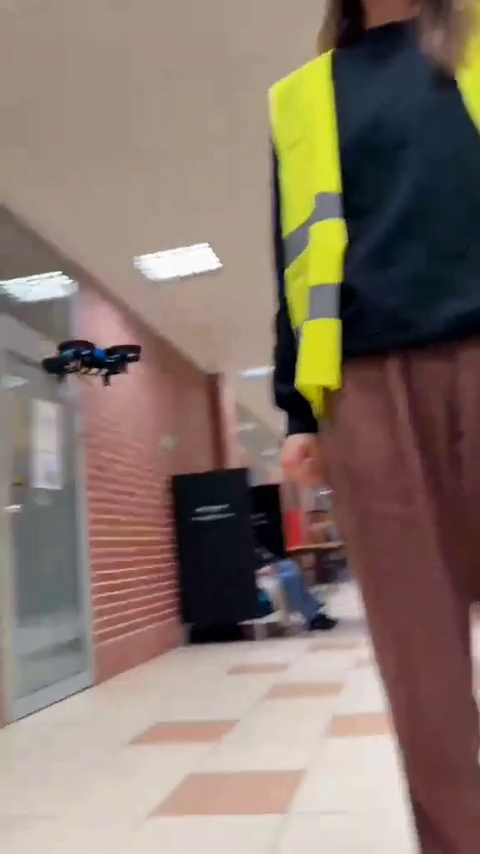drone: (53, 339, 144, 384)
vest: (258, 66, 480, 841)
